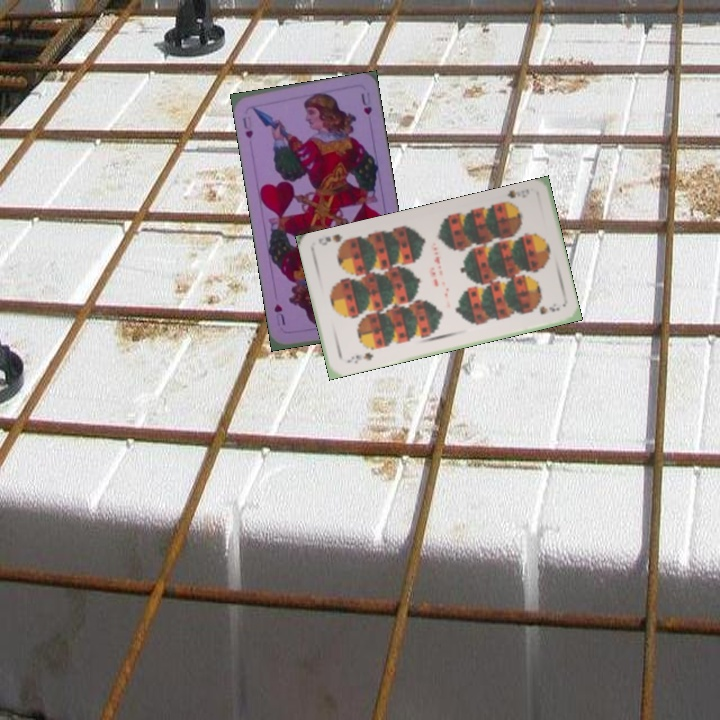HU: (239, 112, 255, 141)
S9: (343, 348, 376, 366), (496, 187, 523, 208)
